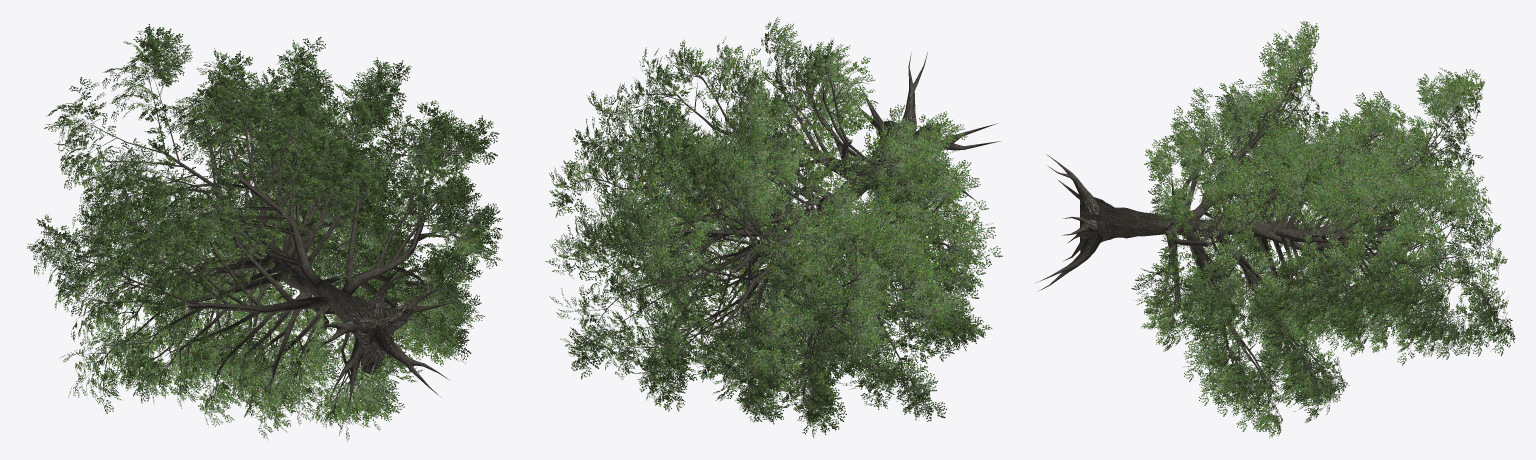
The model's file is OLD OAK TREE.fbx.
The picture shows the model from 3 angles, left to right: view 1: azimuth 30°, elevation 25°; view 2: azimuth 150°, elevation 25°; view 3: azimuth 270°, elevation 25°; orthographic projection. The views are drawn at different scales.
Parts seen in each view (by area): view 1: OLD OAK TREE; view 2: OLD OAK TREE; view 3: OLD OAK TREE.
Part boxes in pixels (bbox=[...]): OLD OAK TREE: bbox=[27, 24, 502, 441]; OLD OAK TREE: bbox=[545, 17, 1002, 437]; OLD OAK TREE: bbox=[1036, 21, 1515, 438].
Bounding box in the file's own units: 42.84 × 47.01 × 39.49.
